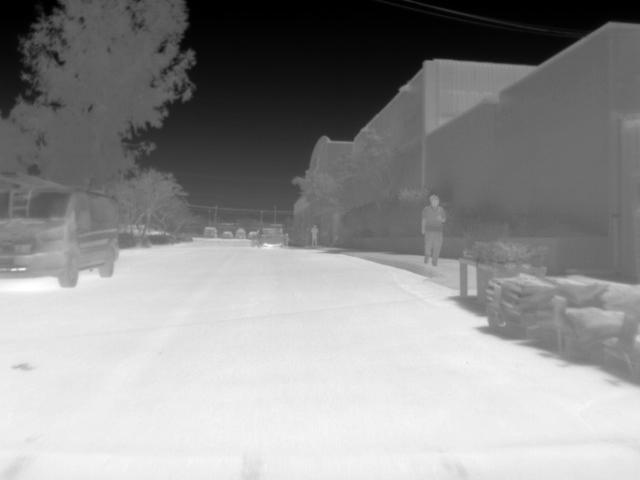car: (1, 184, 124, 288), (252, 226, 284, 246), (202, 225, 222, 238), (234, 228, 251, 240), (220, 229, 233, 240)
person: (419, 194, 445, 269), (308, 222, 321, 248)
